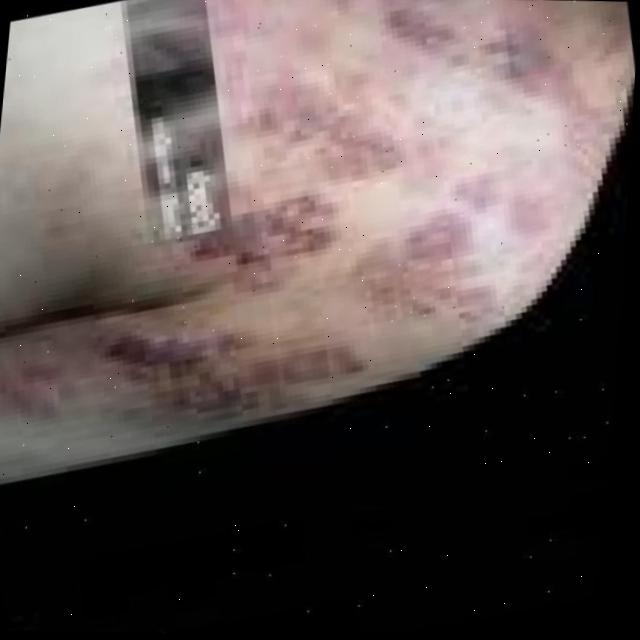Shingles: (377, 167, 535, 303), (88, 332, 341, 407), (405, 6, 573, 98), (230, 79, 384, 158), (239, 199, 348, 277)
